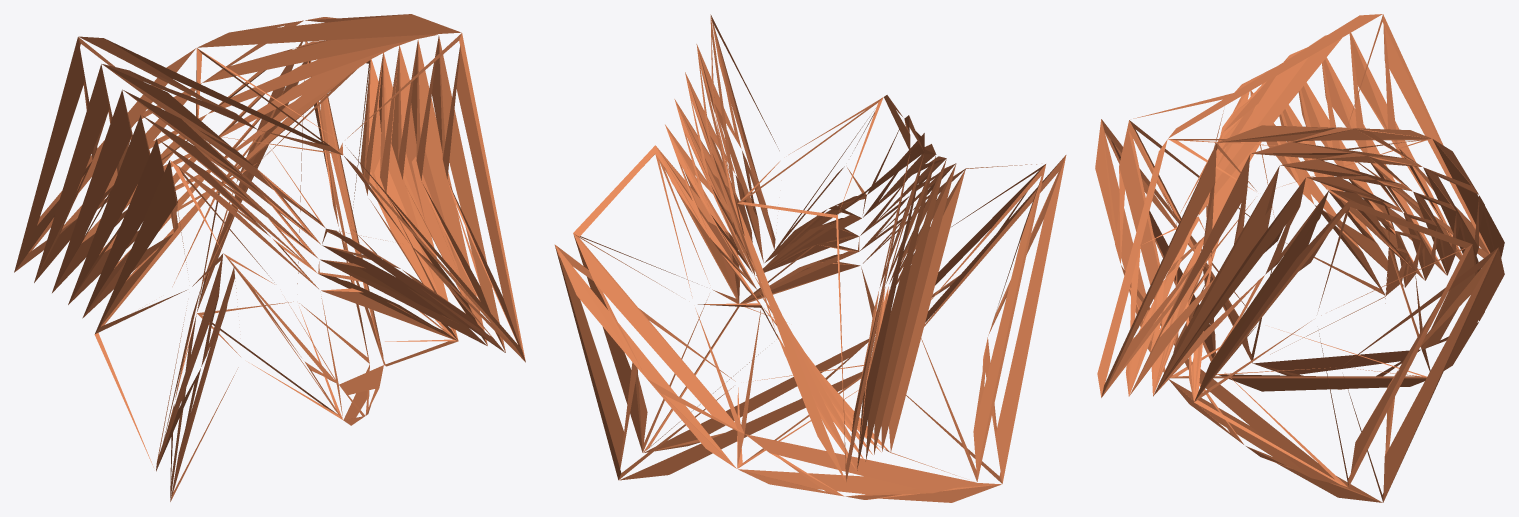
File: php.glb
3 views of the same model, side by side, from view 1: azimuth 30°, elevation 25°; view 2: azimuth 150°, elevation 25°; view 3: azimuth 270°, elevation 25° (orthographic). The views are drawn at different scales.
Visible parts, largest first — view 1: Cube.003_0; view 2: Cube.003_0; view 3: Cube.003_0.
Boxes of the visible parts, x1,y1,x2,y2 form: Cube.003_0: (14, 14, 525, 501); Cube.003_0: (554, 14, 1066, 502); Cube.003_0: (1095, 14, 1504, 502).
Size of the model in its own units: 2.4 by 3.24 by 3.23.
